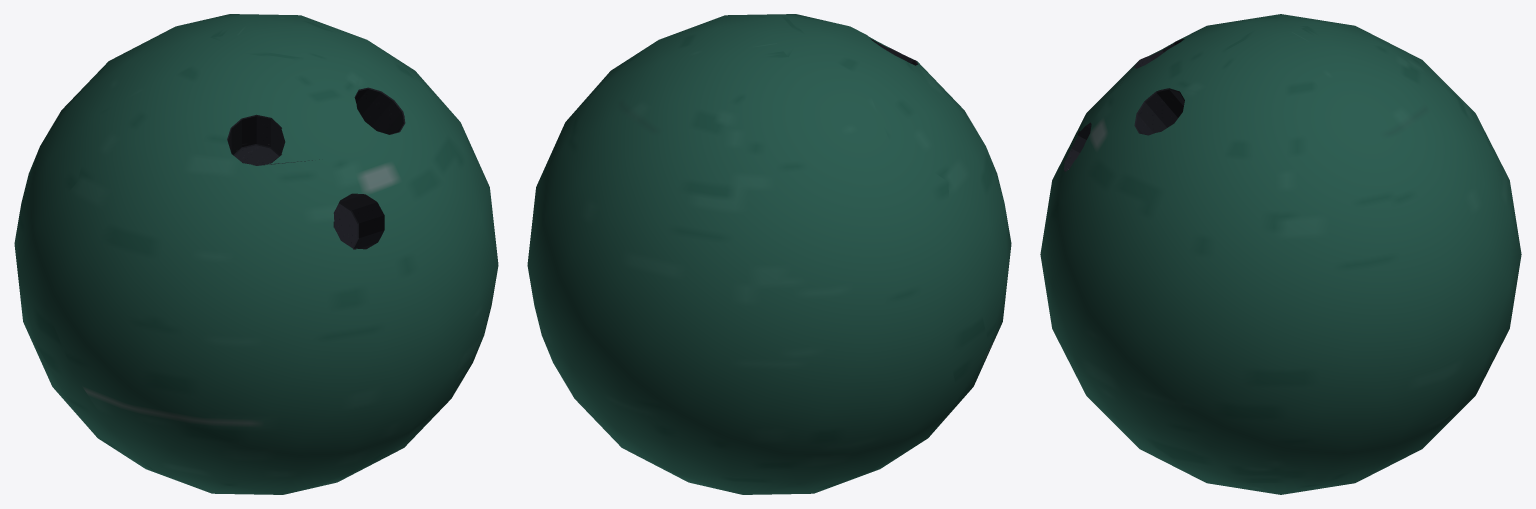
File: bowling_ball_green.glb
The picture shows the model from 3 angles, left to right: view 1: azimuth 30°, elevation 25°; view 2: azimuth 150°, elevation 25°; view 3: azimuth 270°, elevation 25°; orthographic projection.
Visible parts, largest first — view 1: arcade_bowling_ball_green; view 2: arcade_bowling_ball_green; view 3: arcade_bowling_ball_green.
Boxes of the visible parts, left/top/right/bottom form: arcade_bowling_ball_green: left=14, top=14, right=498, bottom=494; arcade_bowling_ball_green: left=527, top=14, right=1011, bottom=494; arcade_bowling_ball_green: left=1040, top=14, right=1521, bottom=494.
Size of the model in its own units: 0.216 by 0.216 by 0.216.
Materials: 1 (1 with a texture image).
